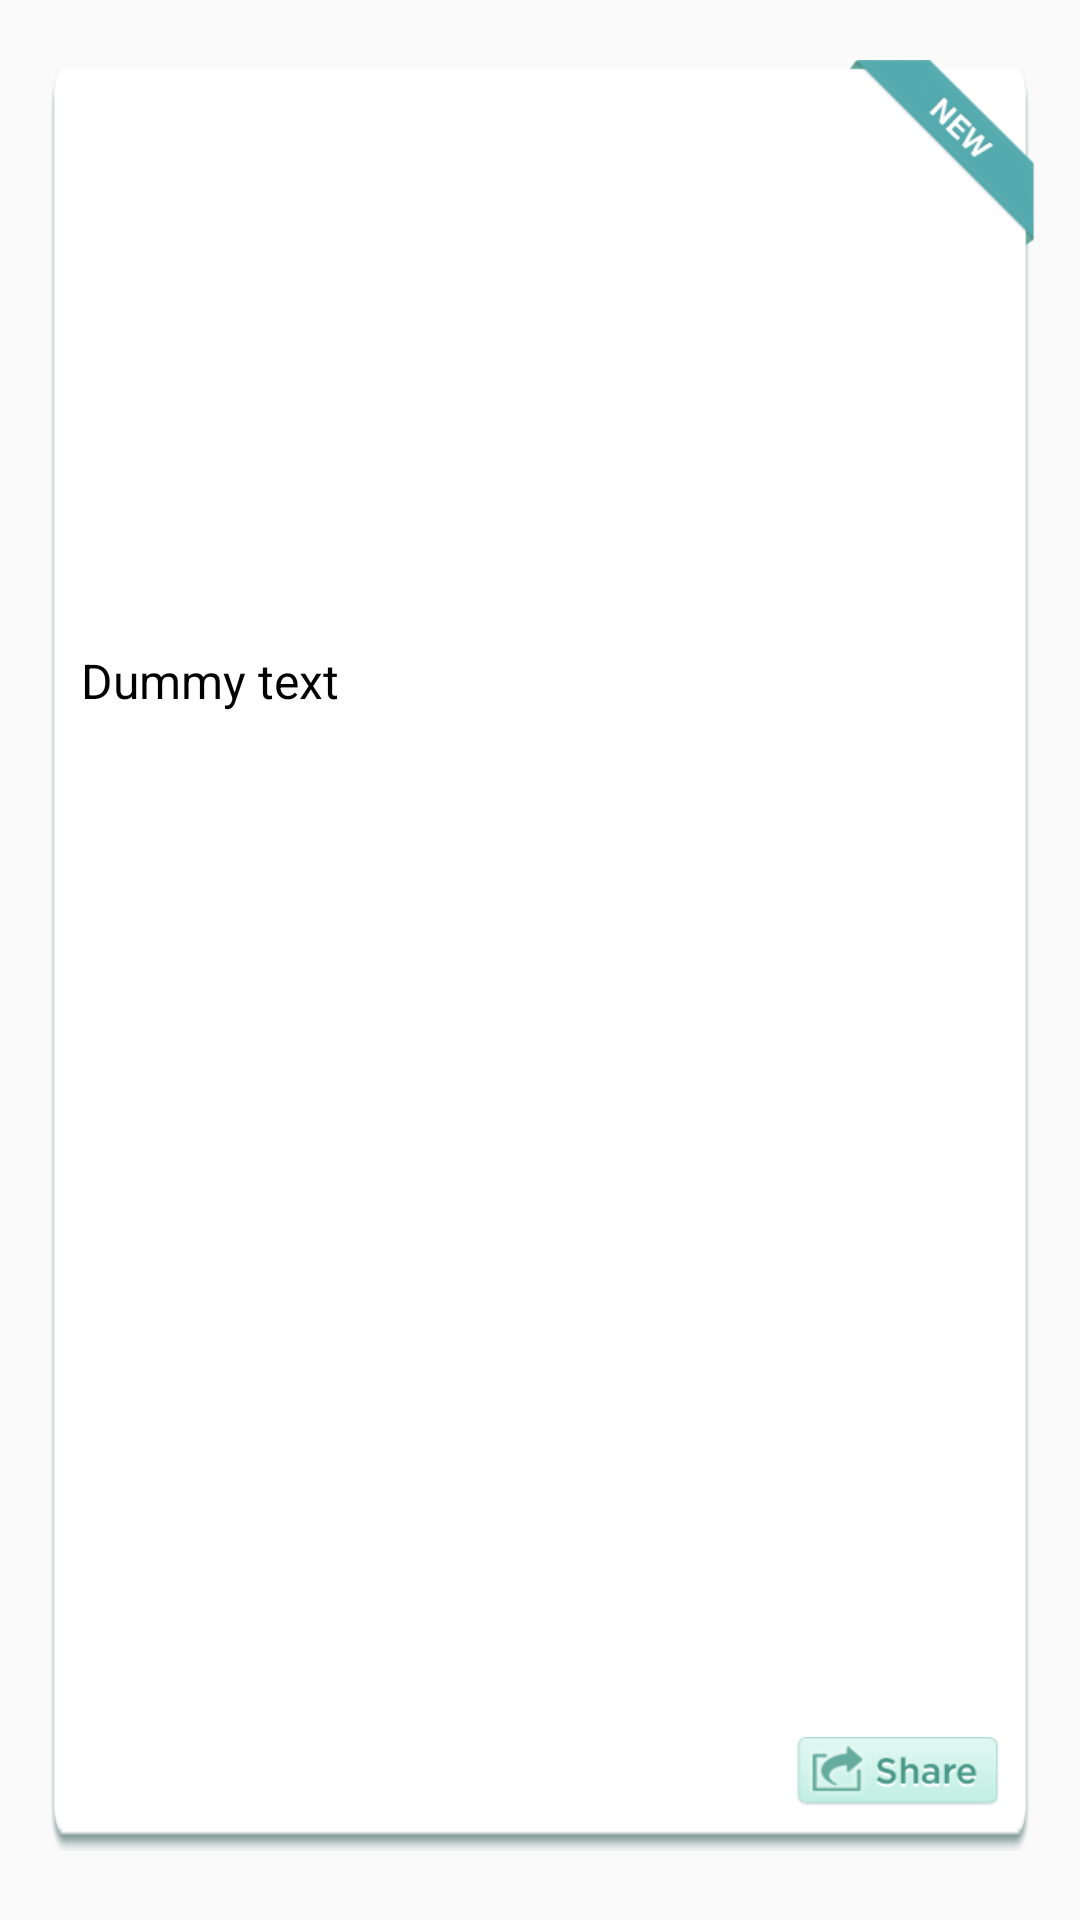

Icon bounding boxes for this 1080*1920 phone screenshot, format Rect(x1, y1, x2, y2):
ribbon: Rect(850, 60, 1034, 245)
